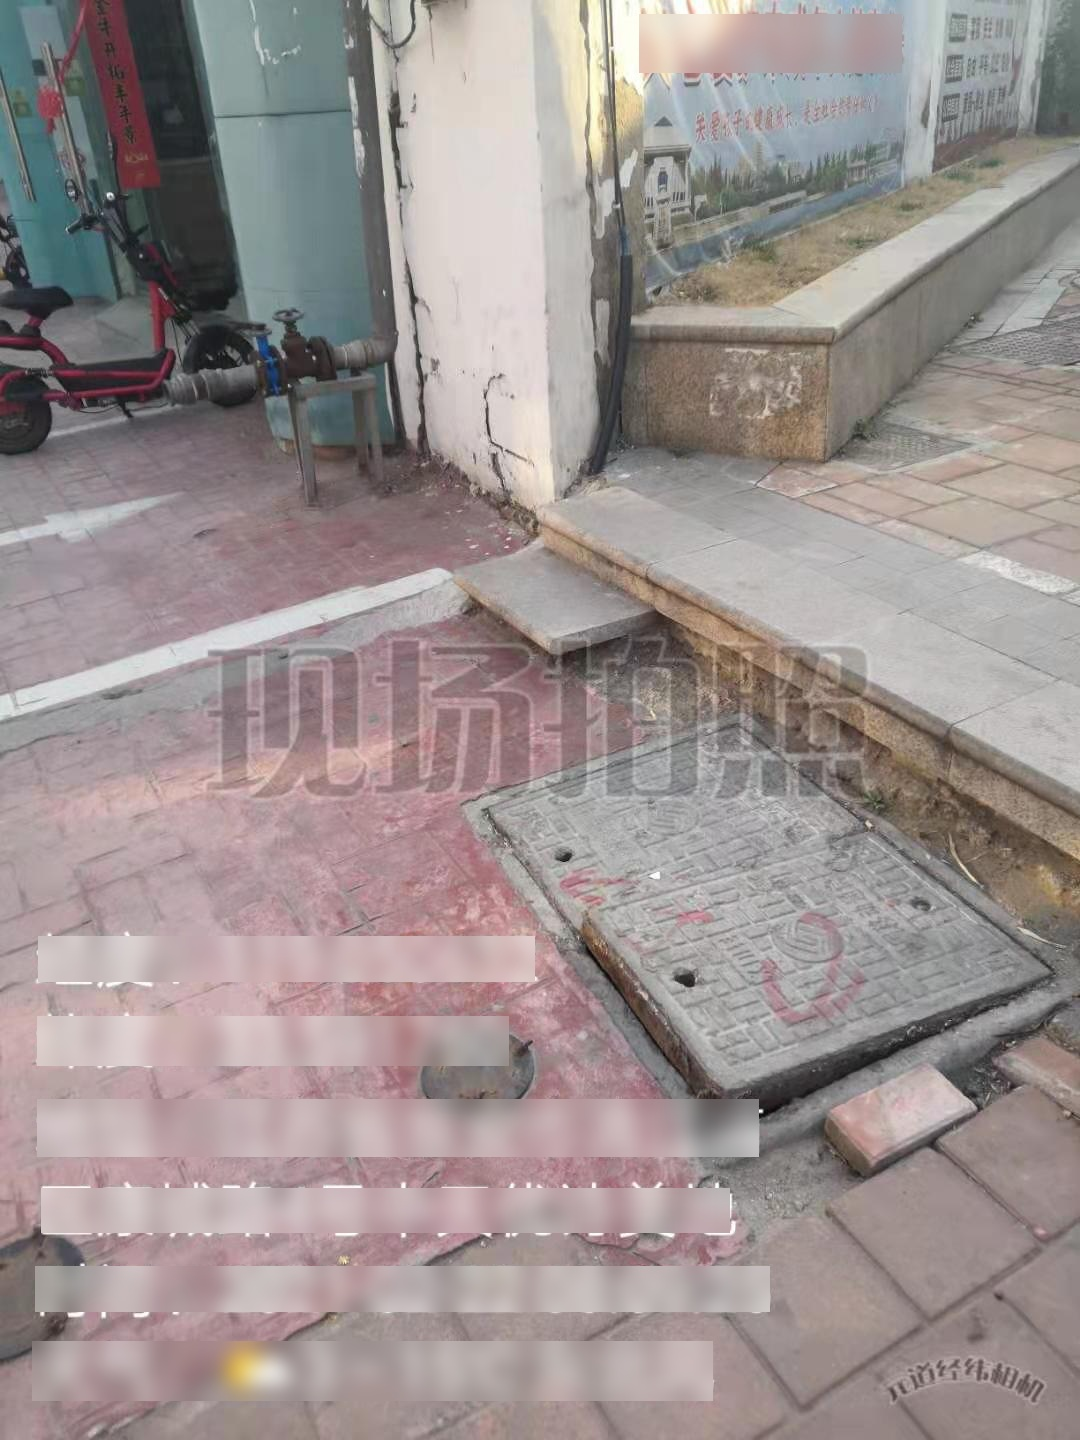uncovered: (455, 711, 1077, 1163)
